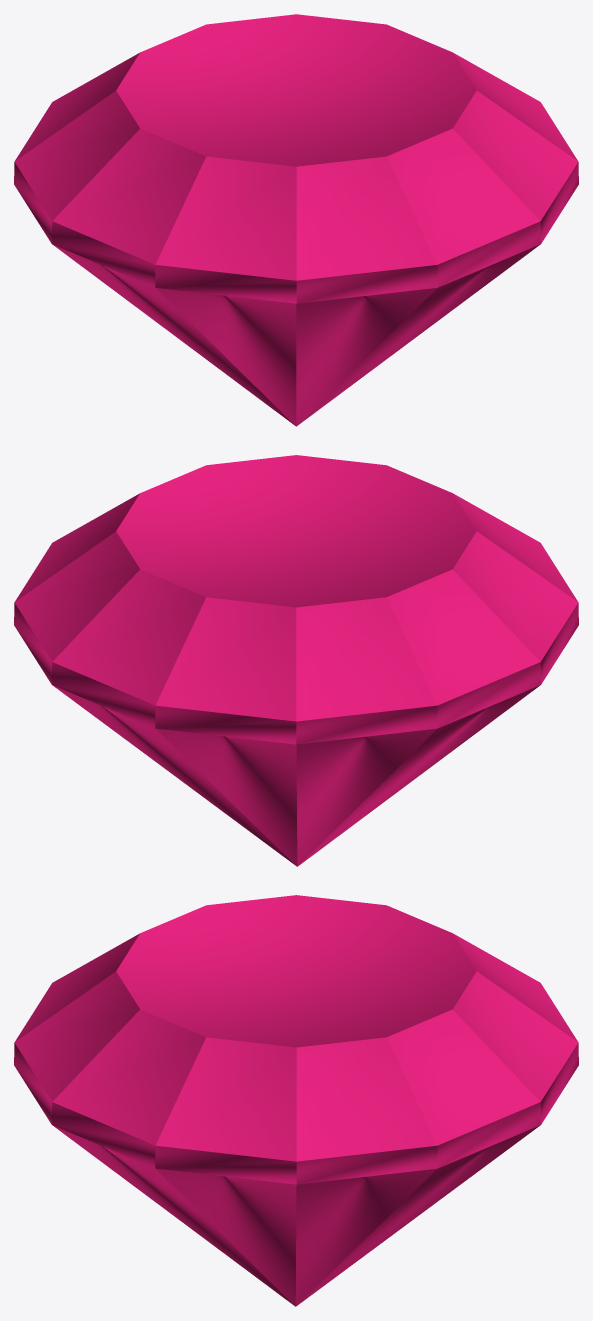
Rendered from GemOutline.fbx.
3 views of the same model, one above another, from view 1: azimuth 30°, elevation 25°; view 2: azimuth 150°, elevation 25°; view 3: azimuth 270°, elevation 25° (orthographic).
Parts seen in each view (by area): view 1: GemOutline; view 2: GemOutline; view 3: GemOutline.
Part boxes in pixels (x1=…): GemOutline: x1=14, y1=14, x2=578, y2=426; GemOutline: x1=14, y1=455, x2=578, y2=866; GemOutline: x1=14, y1=895, x2=578, y2=1306.
Bounding box in the file's own units: 113 × 74.4 × 113.
